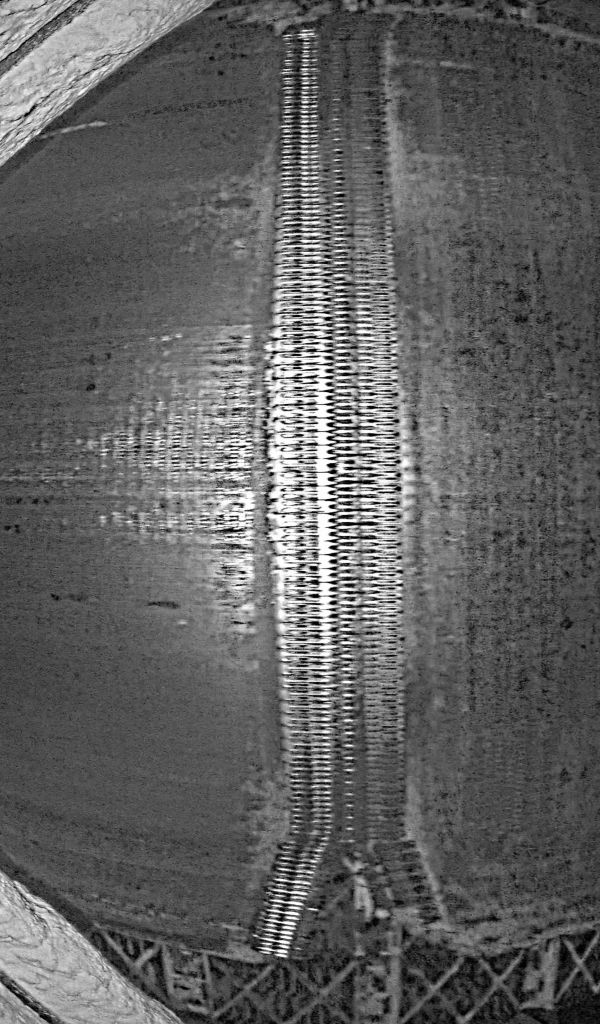damage: (258, 853, 453, 955)
splice: (248, 11, 449, 954)
